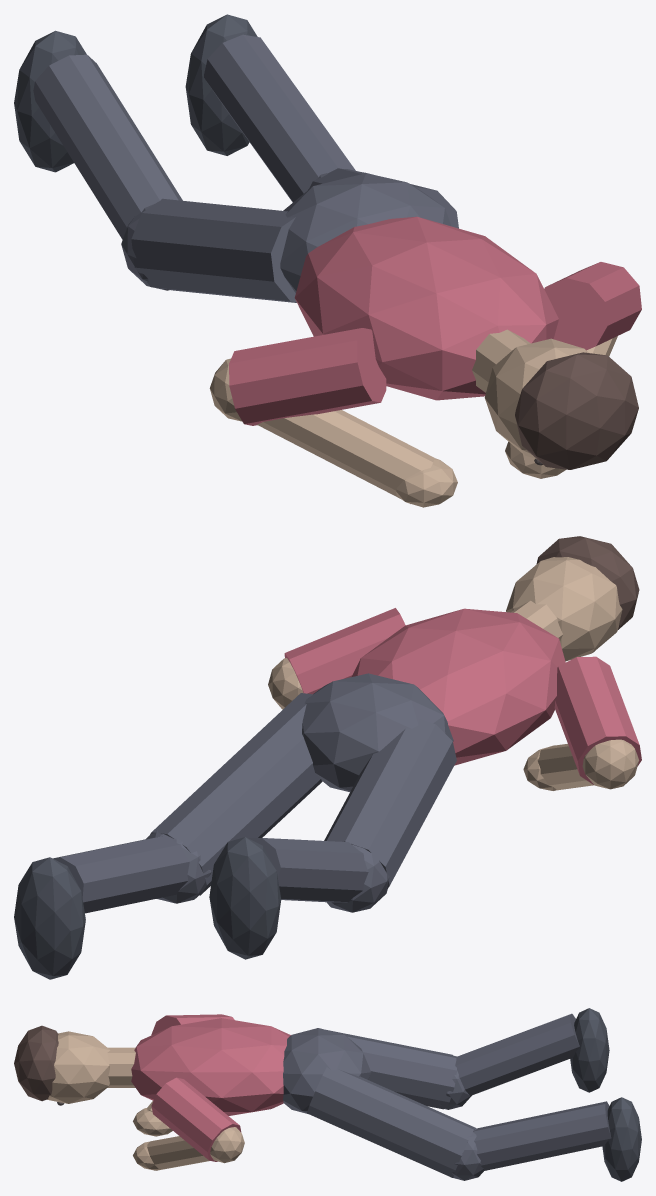
3 views of the same model, one above another, from view 1: azimuth 30°, elevation 25°; view 2: azimuth 150°, elevation 25°; view 3: azimuth 270°, elevation 25° (orthographic). The views are drawn at different scales.
Visible parts, largest first — view 1: world; view 2: world; view 3: world.
Part boxes in pixels (box(x1,y1,x2,y2)): world: box(14, 14, 641, 507); world: box(14, 536, 641, 979); world: box(14, 1008, 641, 1181).
Size of the model in its own units: 0.93 by 0.44 by 2.01.
